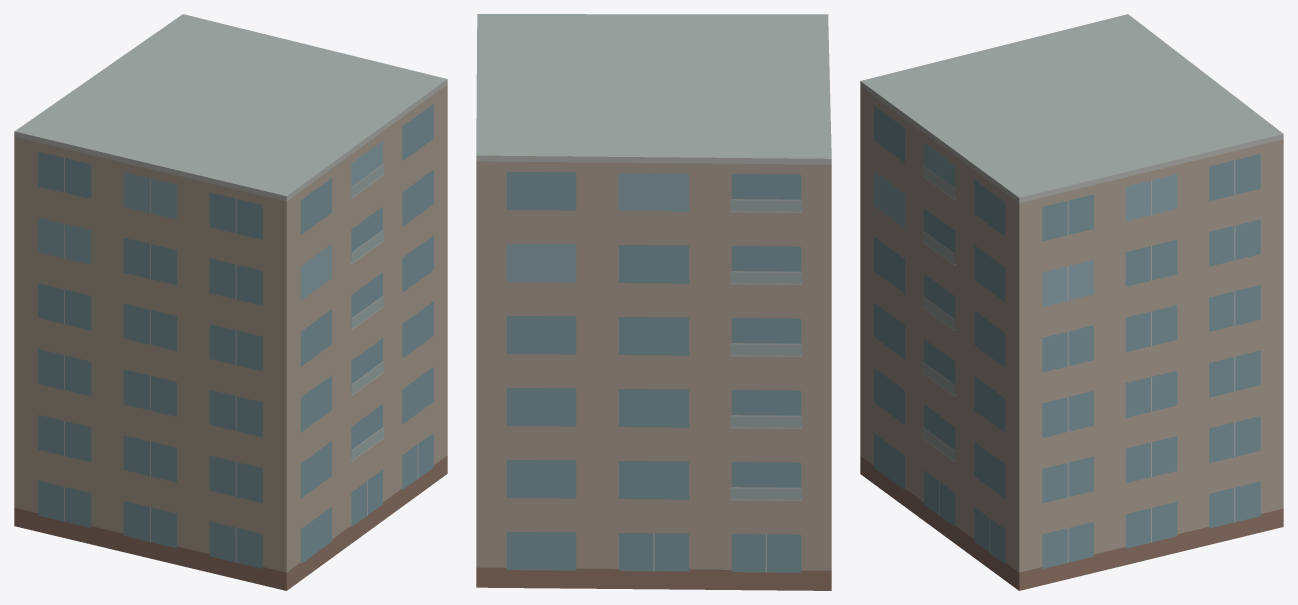
File: survey-upis-32722791.glb
3 renders of one model, left to right at view 1: azimuth 30°, elevation 25°; view 2: azimuth 150°, elevation 25°; view 3: azimuth 270°, elevation 25°, orthographic. The views are drawn at different scales.
Visible parts, largest first — view 1: survey-upis-32722791.tmp; view 2: survey-upis-32722791.tmp; view 3: survey-upis-32722791.tmp.
Boxes of the visible parts, x1=… form: survey-upis-32722791.tmp: x1=14, y1=14, x2=447, y2=590; survey-upis-32722791.tmp: x1=476, y1=14, x2=831, y2=590; survey-upis-32722791.tmp: x1=860, y1=14, x2=1283, y2=590.
Bounding box in the file's own units: 18.37 × 18.3 × 17.88.
